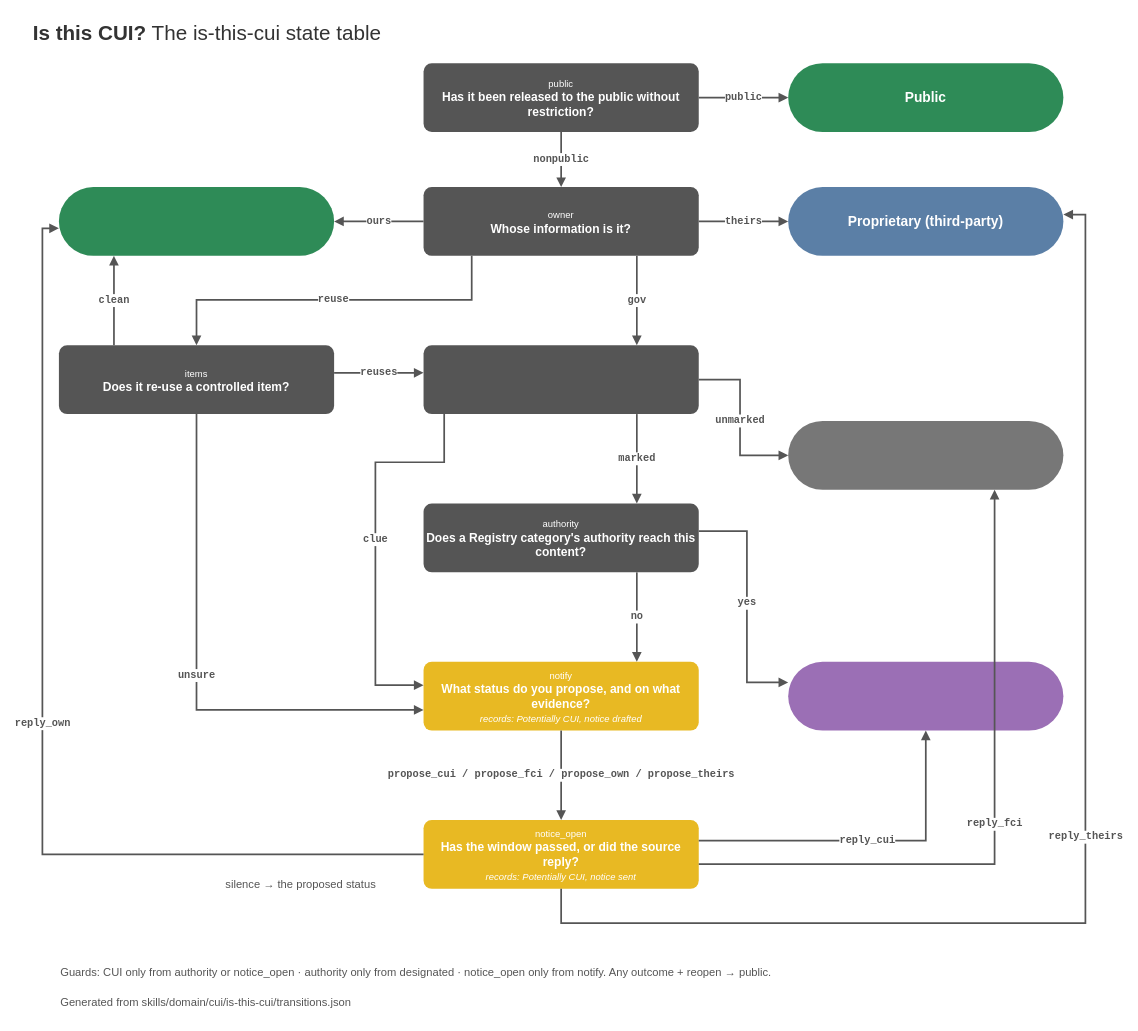
This 1138x1031 diagram has some shape labels left out. Each missing label, with the centre of its shape:
CUI: the point at 925,695
designated How is it designated?: the point at 560,379
FCI: the point at 925,455
Proprietary (own): the point at 196,221
